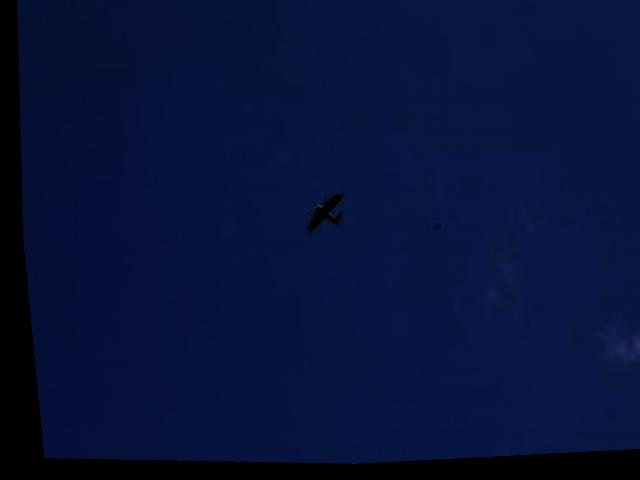uav: (299, 190, 341, 239)
